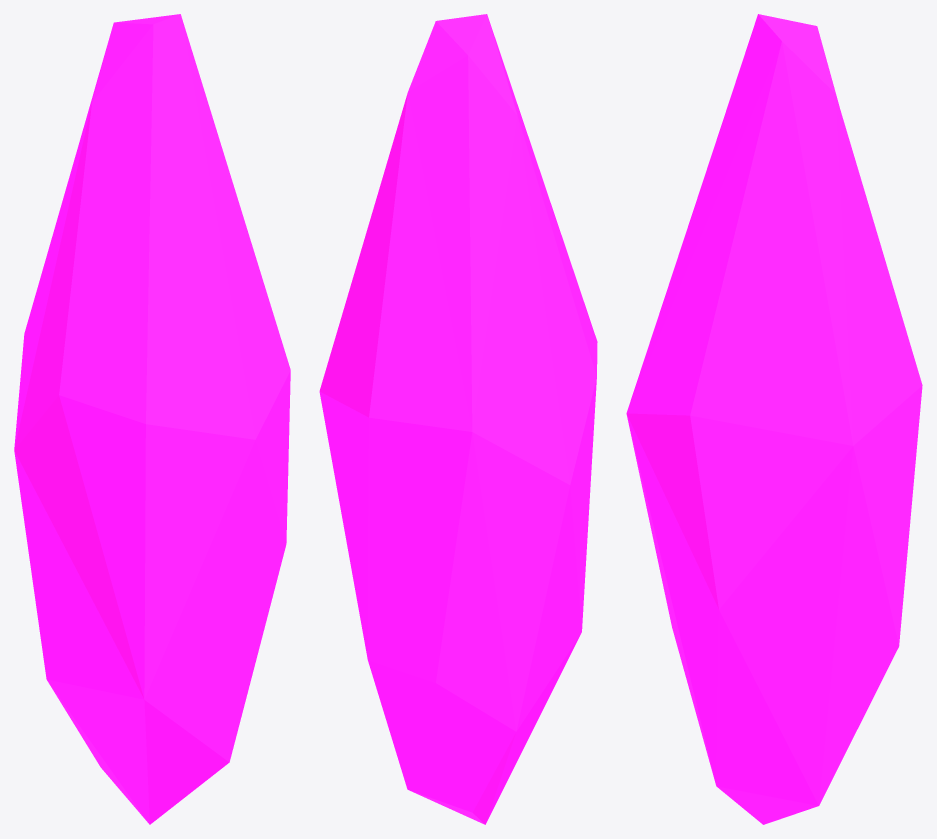
The model's file is crystal.glb.
3 views of the same model, side by side, from view 1: azimuth 30°, elevation 25°; view 2: azimuth 150°, elevation 25°; view 3: azimuth 270°, elevation 25° (orthographic).
Visible parts, largest first — view 1: crystal; view 2: crystal; view 3: crystal.
Boxes of the visible parts, x1,y1,x2,y2 form: crystal: [14, 14, 290, 824]; crystal: [319, 14, 597, 824]; crystal: [626, 14, 922, 824].
Size of the model in its own units: 3.44 by 11.45 by 3.79.
